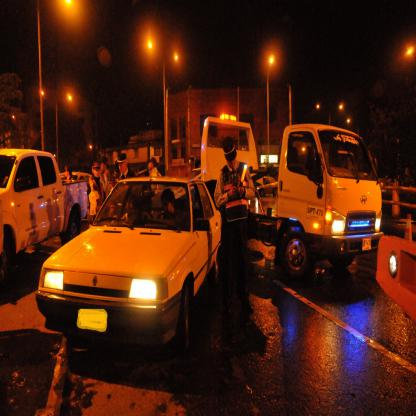Car: (36, 159, 222, 355)
Truck: (269, 124, 384, 270), (0, 146, 88, 292), (199, 116, 265, 210)
